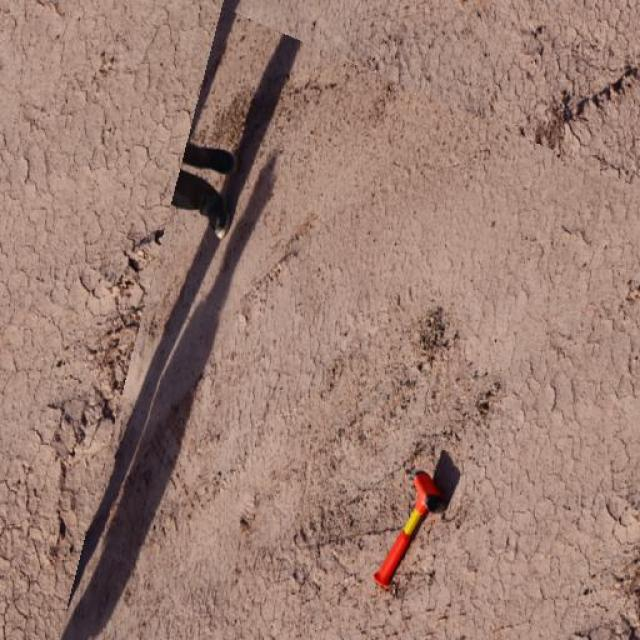mallet: (371, 469, 445, 589)
